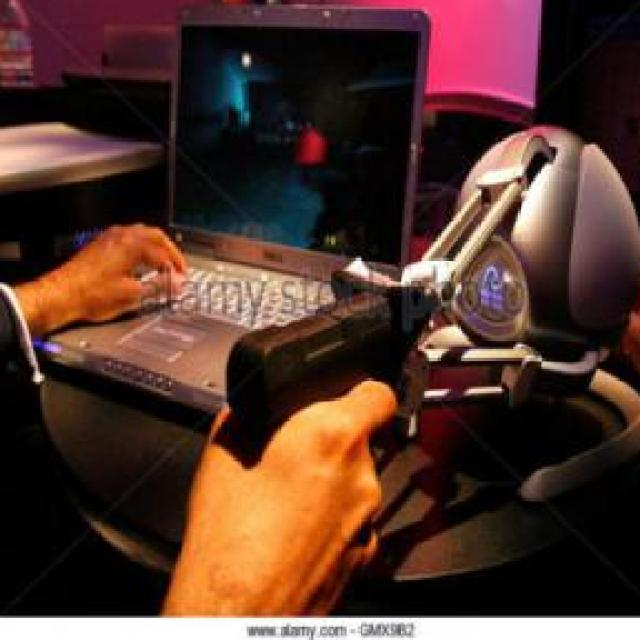pistol: (224, 251, 423, 488)
